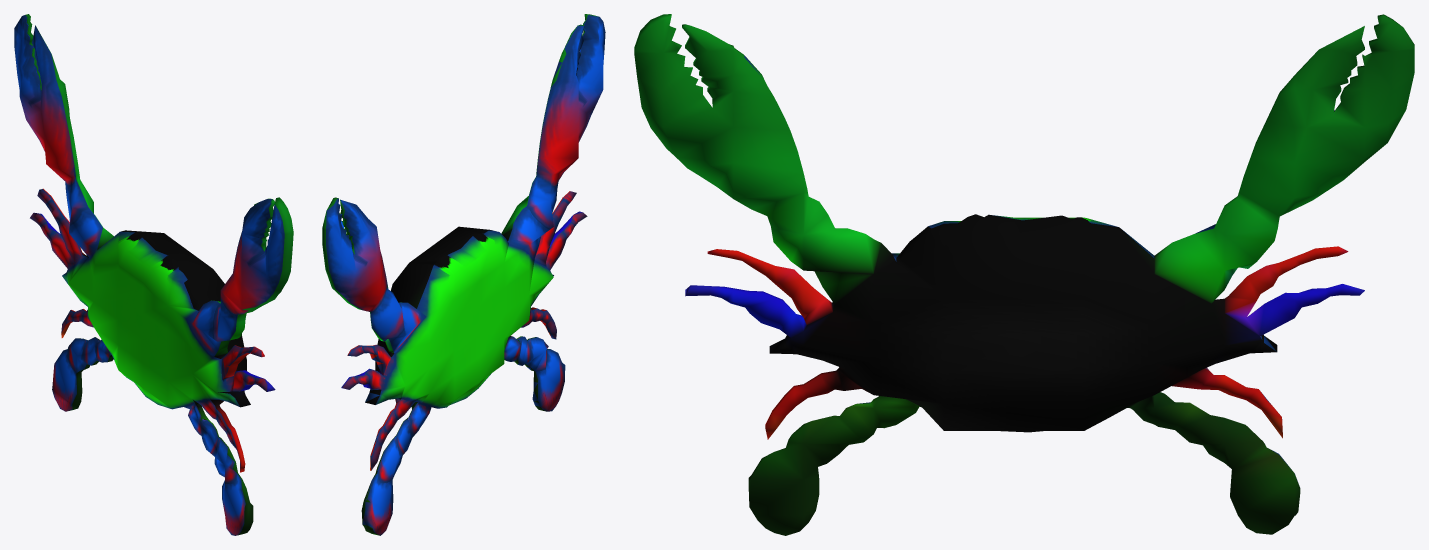
Rendered from crab13.fbx.
3 renders of one model, left to right at view 1: azimuth 30°, elevation 25°; view 2: azimuth 150°, elevation 25°; view 3: azimuth 270°, elevation 25°, orthographic. The views are drawn at different scales.
Visible parts, largest first — view 1: 8b5fcca9-0bd1-453d-b090-de07f664e9b1; view 2: 8b5fcca9-0bd1-453d-b090-de07f664e9b1; view 3: 8b5fcca9-0bd1-453d-b090-de07f664e9b1.
Part boxes in pixels (x1,y1,x2,y2): 8b5fcca9-0bd1-453d-b090-de07f664e9b1: (14, 14, 293, 535); 8b5fcca9-0bd1-453d-b090-de07f664e9b1: (322, 14, 605, 535); 8b5fcca9-0bd1-453d-b090-de07f664e9b1: (634, 14, 1414, 535).
Size of the model in its own units: 0.1719 by 0.9065 by 1.24.
